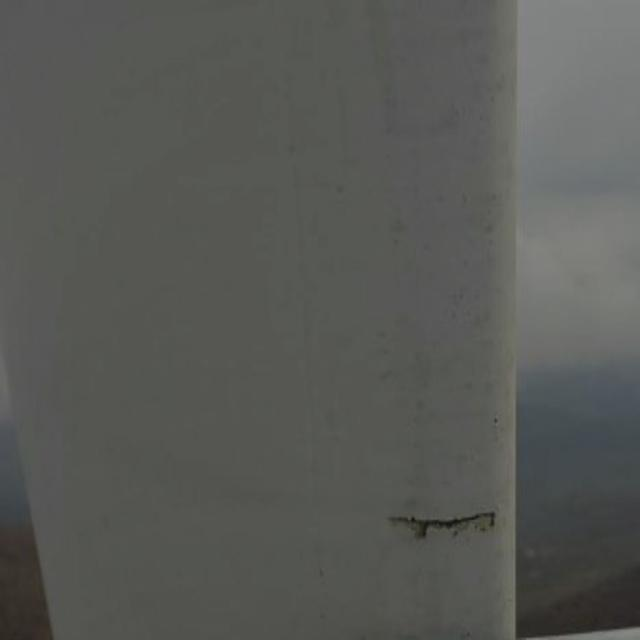crack: (384, 508, 498, 533)
